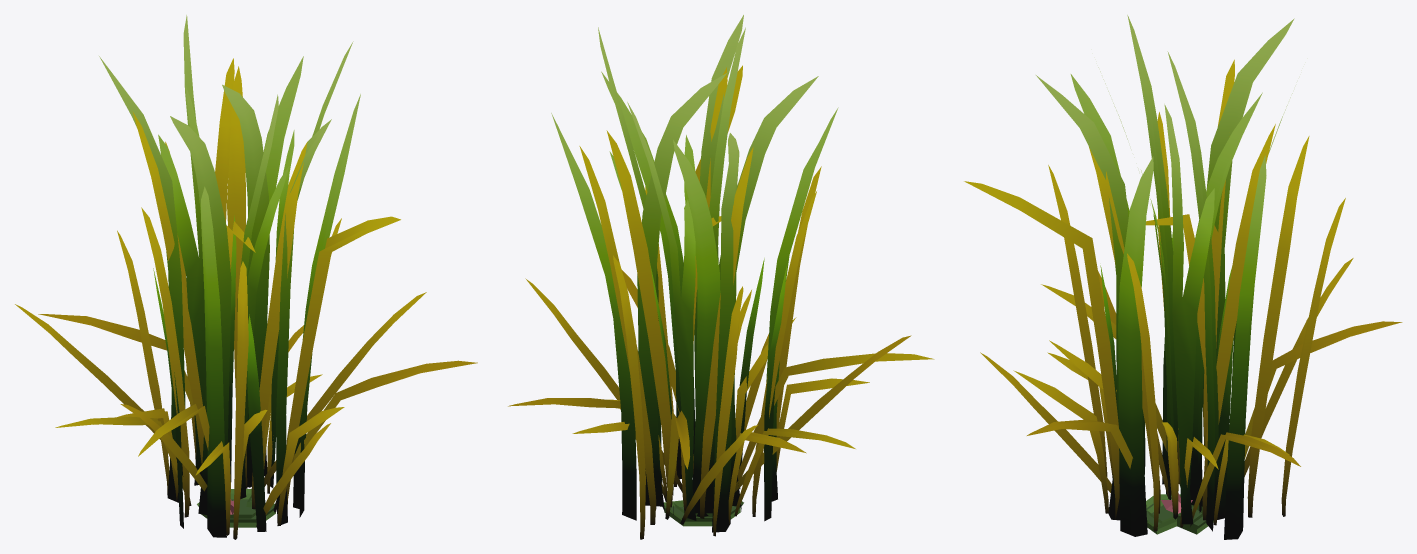
The model's file is water.glb.
3 renders of one model, left to right at view 1: azimuth 30°, elevation 25°; view 2: azimuth 150°, elevation 25°; view 3: azimuth 270°, elevation 25°, orthographic. The views are drawn at different scales.
Visible parts, largest first — view 1: Grass_Common_Tall, Grass_Wispy_Tall; view 2: Grass_Common_Tall, Grass_Wispy_Tall, lily_large; view 3: Grass_Common_Tall, Grass_Wispy_Tall, lily_large.
Boxes of the visible parts, bbox=[...] form: Grass_Common_Tall: bbox=[99, 15, 360, 537]; Grass_Wispy_Tall: bbox=[15, 58, 477, 539]; Grass_Common_Tall: bbox=[551, 15, 838, 532]; Grass_Wispy_Tall: bbox=[508, 65, 934, 539]; lily_large: bbox=[664, 500, 743, 526]; Grass_Common_Tall: bbox=[1036, 15, 1294, 539]; Grass_Wispy_Tall: bbox=[964, 59, 1402, 531]; lily_large: bbox=[1146, 493, 1213, 534].
Bounding box in the file's own units: 1.54 × 1.89 × 1.59.
4 materials, 1 textured.
